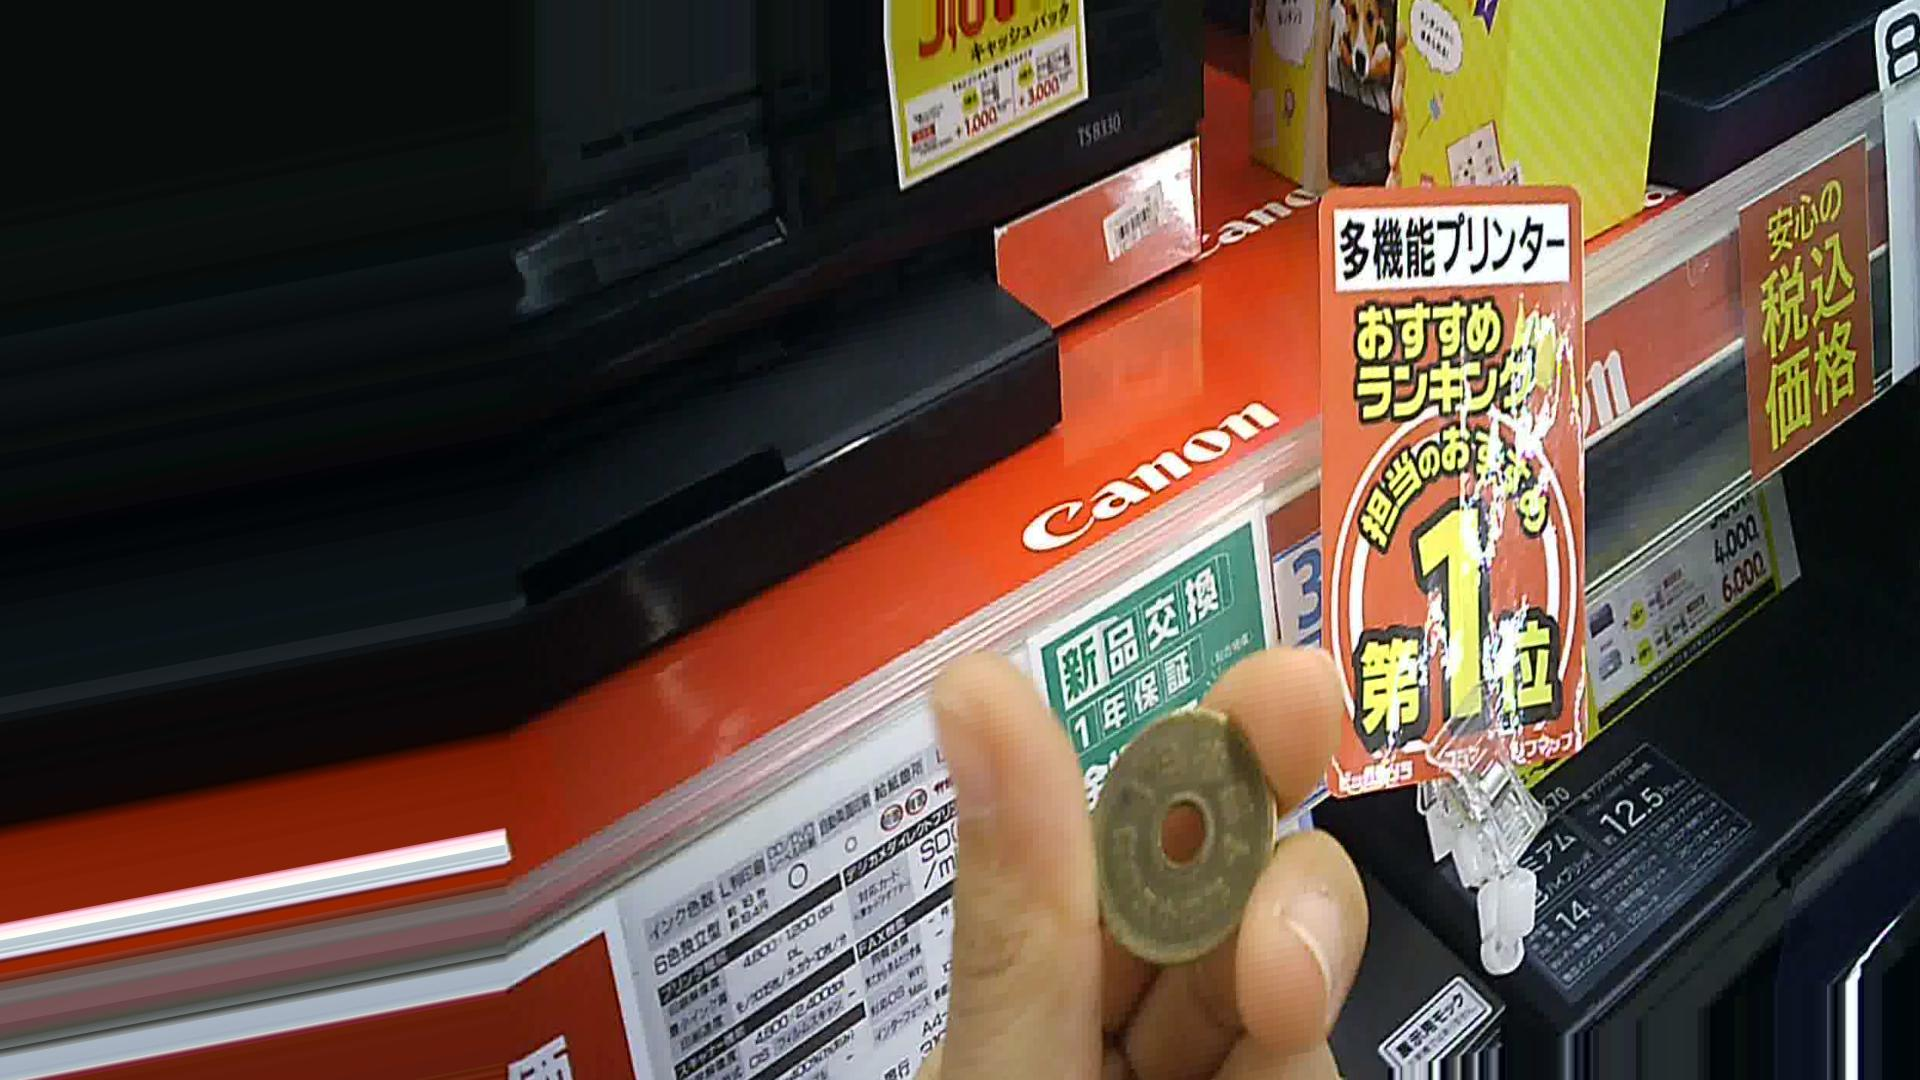5 Yen: (1092, 713, 1278, 959)
